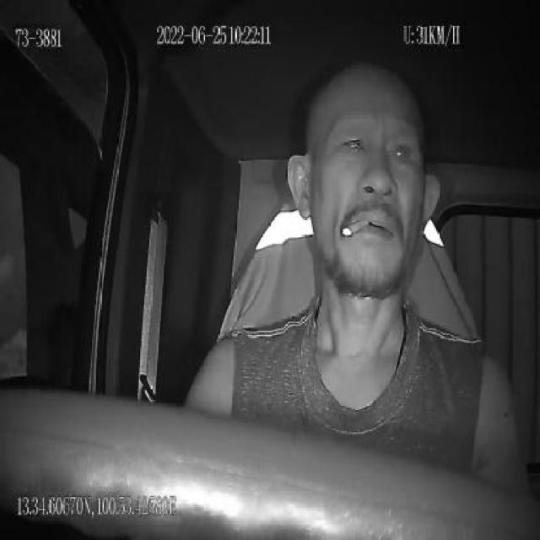smoking: (339, 218, 370, 238)
